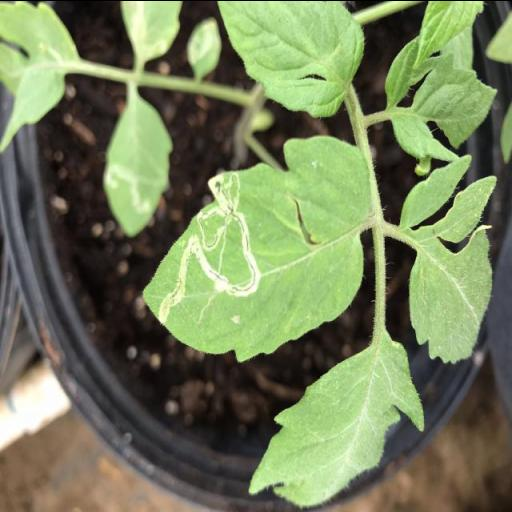Leaf Miner: (140, 134, 374, 356)
